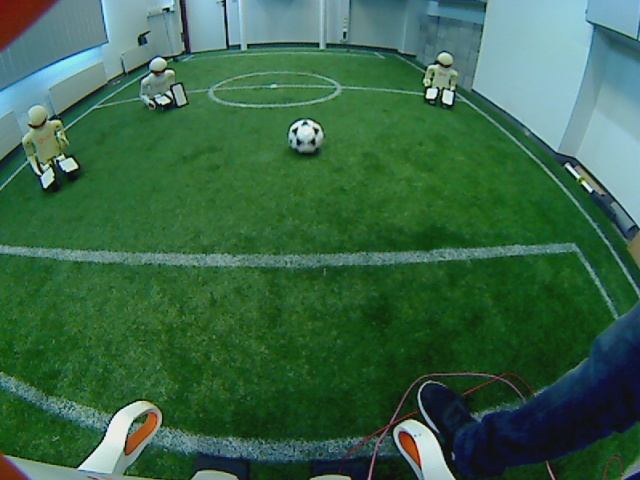ball: (284, 116, 327, 158)
robot: (14, 105, 81, 194), (133, 53, 188, 114), (417, 49, 461, 114)
